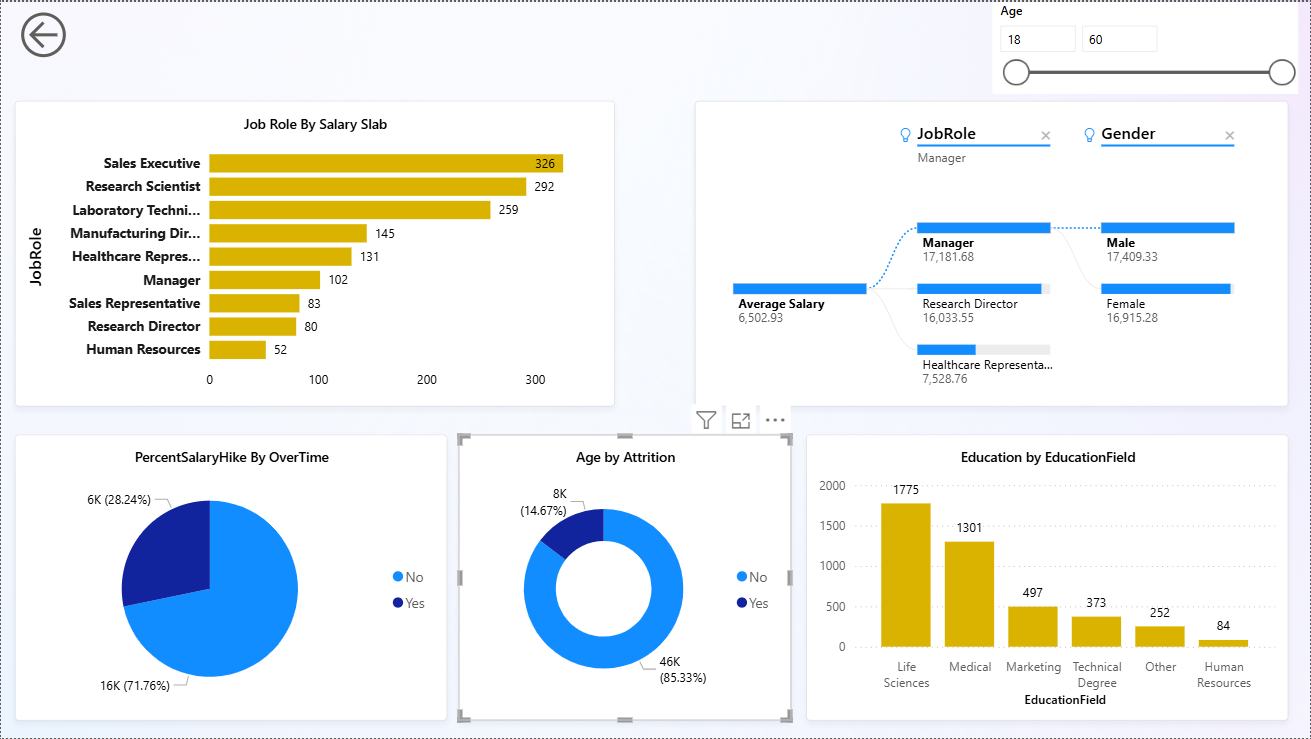

What the dashboard file says about the page in this screenshot:
{"tool":"powerbi","page":{"name":"Employee Insights","canvas":[1280,720],"ordinal":1},"visuals":[{"type":"barChart","title":"Department by Attrition","fields":{"Category":["Hr-Analytics.JobRole"],"Y":["CountNonNull(Hr-Analytics.Salary Slab)"]},"box":[13.5,96.6,587,299.6],"z":1000},{"type":"decompositionTreeVisual","fields":{"ExplainBy":["Hr-Analytics.JobRole","Hr-Analytics.Gender"],"Analyze":["Hr-Analytics.Average Salary"]},"box":[678.7,96.6,580.8,299.6],"z":2000},{"type":"columnChart","fields":{"Category":["Hr-Analytics.EducationField"],"Y":["Sum(Hr-Analytics.Education)"]},"box":[787.5,423.1,472,280],"z":3000},{"type":"pieChart","title":"MonthlyRate by EducationField","fields":{"Category":["Hr-Analytics.OverTime"],"Y":["Sum(Hr-Analytics.PercentSalaryHike)"]},"box":[13.5,423.1,423.1,280],"z":4000},{"type":"donutChart","fields":{"Category":["Hr-Analytics.Attrition"],"Y":["Sum(Hr-Analytics.Age)"]},"box":[447.6,423.1,325.3,280],"z":4001},{"type":"slicer","fields":{"Values":["Hr-Analytics.Age"]},"box":[969.7,0,299.6,89.3],"z":4002},{"type":"actionButton","box":[13.5,0,56.3,63.6],"z":4003}]}

Visuals, with their boxes in screenshot pixels (x1, y1, x2, y2), scaled from the page's 1280x720 canvas onto the 1311x739 screenshot:
"Department by Attrition" barChart: rect(14, 99, 615, 407)
decompositionTreeVisual - Hr-Analytics.JobRole x Hr-Analytics.Gender: rect(695, 99, 1290, 407)
columnChart - Hr-Analytics.EducationField x Sum(Hr-Analytics.Education): rect(807, 434, 1290, 722)
"MonthlyRate by EducationField" pieChart: rect(14, 434, 447, 722)
donutChart - Hr-Analytics.Attrition x Sum(Hr-Analytics.Age): rect(458, 434, 792, 722)
slicer - Hr-Analytics.Age: rect(993, 0, 1300, 92)
actionButton: rect(14, 0, 71, 65)
